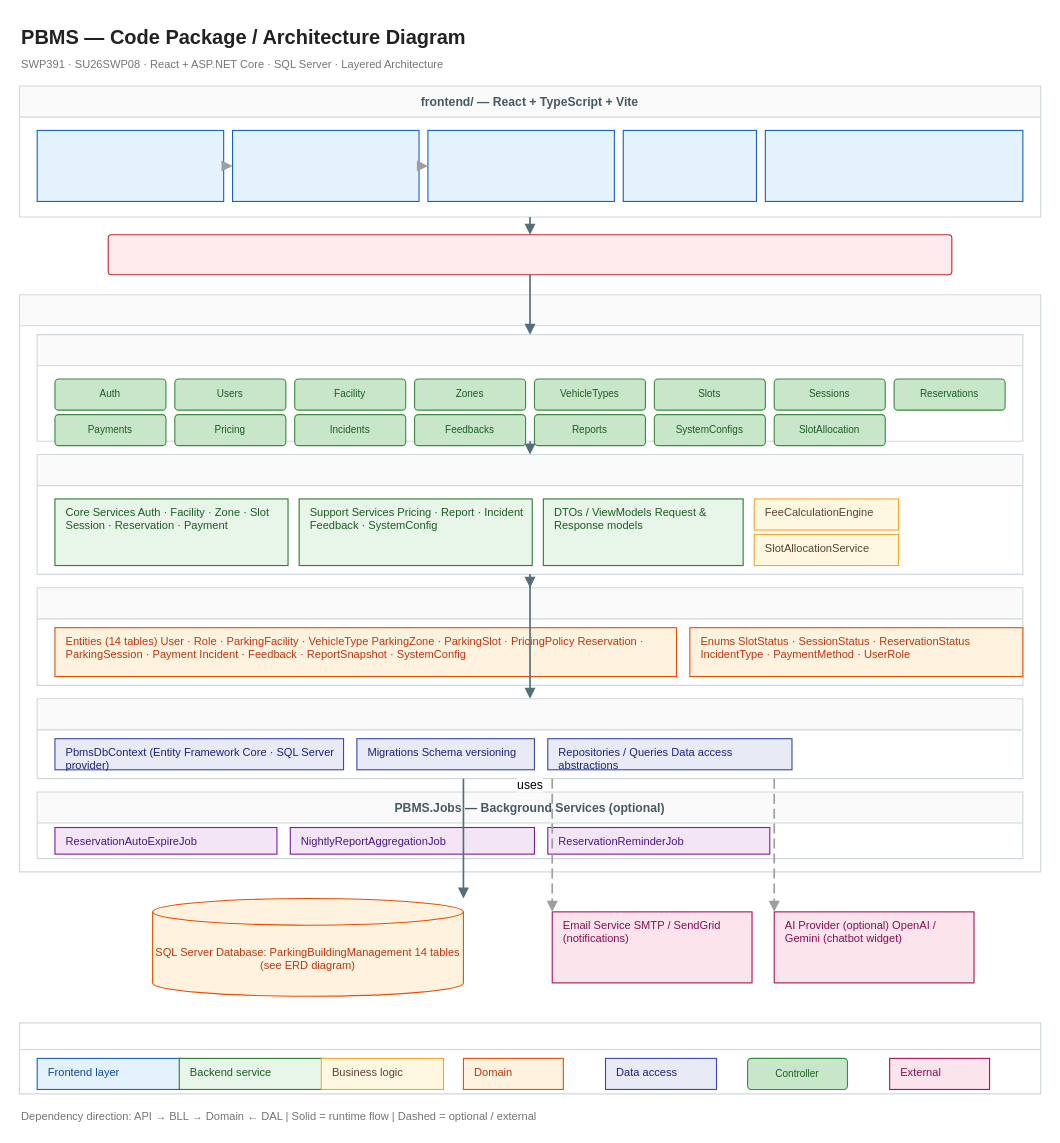
Image size: 1060x1143. Some labels were removed from this diagram. The shapes that lost their labels are listed below. From the top down, each one's box as (x1, y1, x2, y2) in pixels, then its label:
(36, 129, 224, 201): View pages/ · components/ · layouts/
(231, 129, 419, 201): Controller hooks/ · contexts/ · routes/
(427, 129, 614, 201): Model models/ · services/ (Axios)
(622, 129, 756, 201): Shared utils/ · constants
(764, 129, 1023, 201): Role pages Admin · Manager · Staff · Driver
(107, 234, 952, 275): HTTP / HTTPS — REST API + JWT Bearer
(36, 334, 1023, 441): PBMS.API — Controllers (Presentation)
(36, 453, 1023, 574): PBMS.BLL — Application Services + DTOs
(18, 294, 1041, 872): backend/ — ASP.NET Core Web API (.NET 10)
(36, 587, 1023, 685): PBMS.Domain — Entities & Enums
(36, 698, 1023, 779): PBMS.DAL — Data Access (EF Core)
(18, 1022, 1041, 1094): Legend
